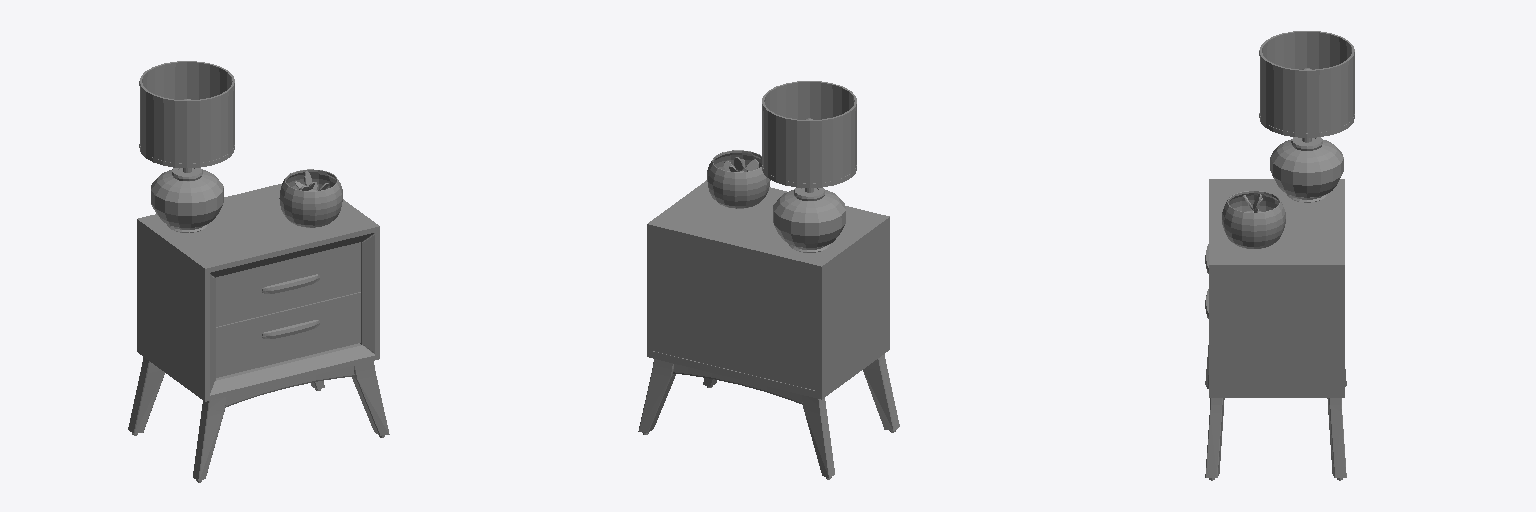
File: buro.obj
3 views of the same model, side by side, from view 1: azimuth 30°, elevation 25°; view 2: azimuth 150°, elevation 25°; view 3: azimuth 270°, elevation 25° (orthographic).
Parts seen in each view (by area): view 1: Nightstand; view 2: Nightstand; view 3: Nightstand.
Boxes of the visible parts, box(x1,y1,x2,y2) form: Nightstand: box(128, 61, 389, 482); Nightstand: box(638, 81, 899, 479); Nightstand: box(1205, 31, 1354, 480).
Size of the model in its own units: 56.01 by 98.86 by 37.68.